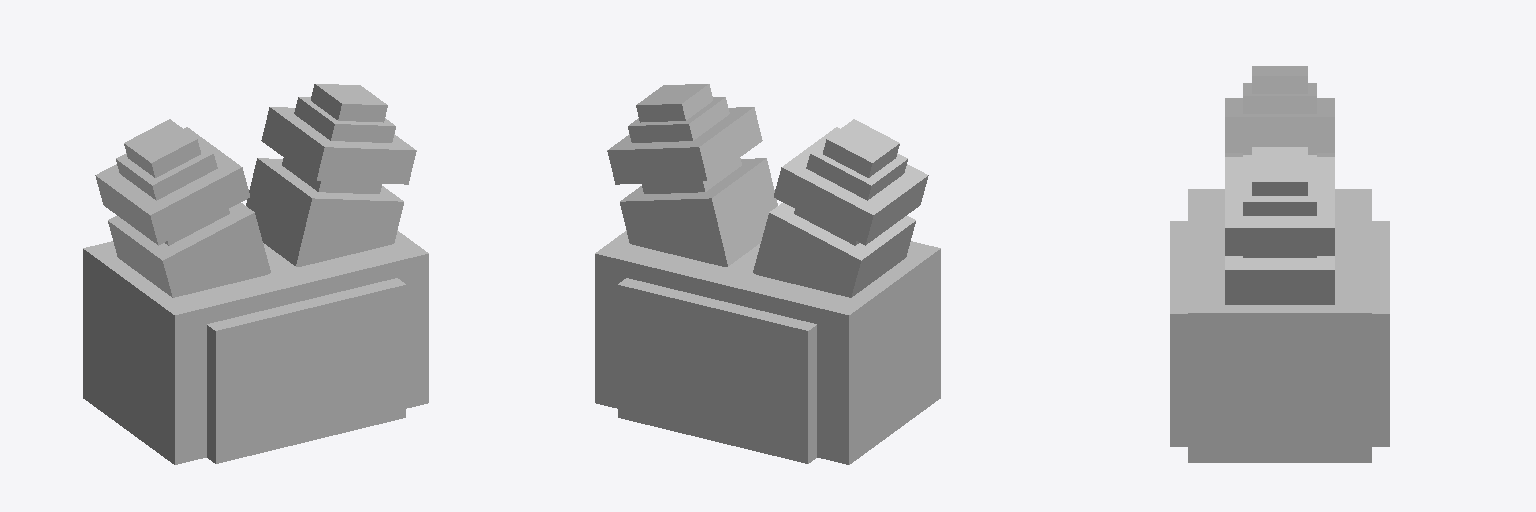
The model's file is redstoneBreaker.obj.
3 views of the same model, side by side, from view 1: azimuth 30°, elevation 25°; view 2: azimuth 150°, elevation 25°; view 3: azimuth 270°, elevation 25° (orthographic).
Visible parts, largest first — view 1: base; view 2: base; view 3: base.
Boxes of the visible parts, x1=… form: base: x1=83, y1=84, x2=428, y2=464; base: x1=595, y1=84, x2=940, y2=464; base: x1=1170, y1=66, x2=1389, y2=462.
Bounding box in the file's own units: 1.05 × 1.09 × 0.75.